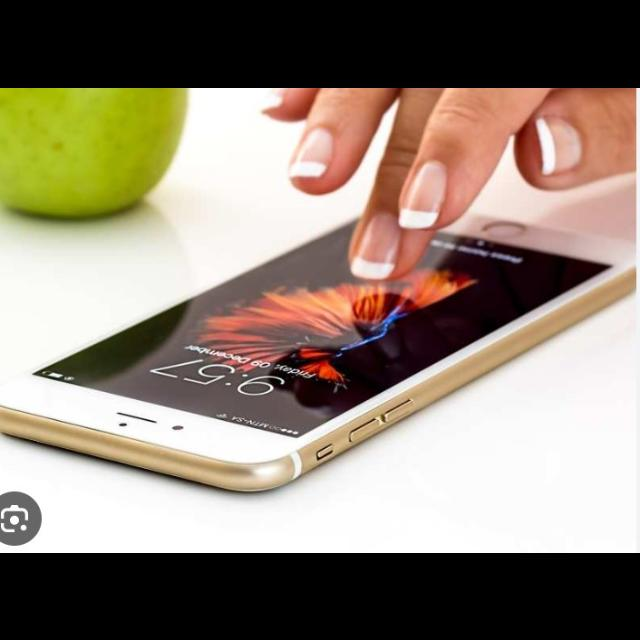Smartphone: (0, 215, 640, 494)
